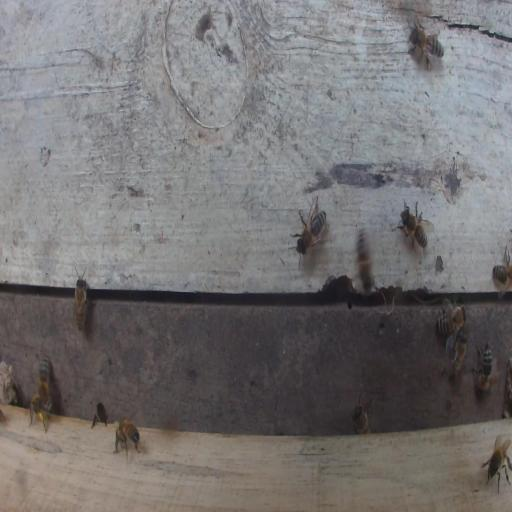bee: (394, 198, 432, 261), (291, 196, 328, 256), (481, 433, 512, 494), (409, 21, 444, 71), (440, 329, 468, 383), (471, 340, 493, 395), (113, 417, 141, 460), (491, 244, 512, 297), (27, 393, 53, 434), (357, 228, 374, 289), (436, 303, 467, 336), (74, 264, 88, 332), (352, 393, 373, 435), (37, 354, 50, 396), (91, 401, 108, 428)
